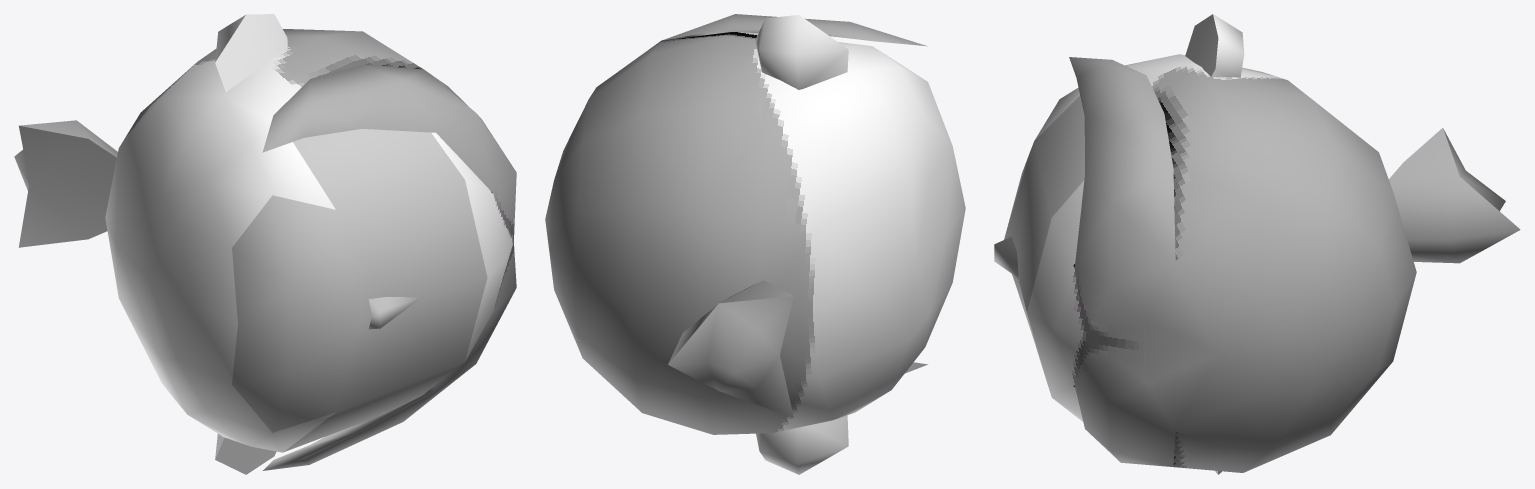
The model's file is girl08a.dae.
3 renders of one model, left to right at view 1: azimuth 30°, elevation 25°; view 2: azimuth 150°, elevation 25°; view 3: azimuth 270°, elevation 25°, orthographic.
Visible parts, largest first — view 1: vsn_mesh_1_, vsn_mesh_0_, vsn_mesh_2_; view 2: vsn_mesh_1_; view 3: vsn_mesh_1_, vsn_mesh_0_.
Part boxes in pixels (x1=…): vsn_mesh_1_: x1=14, y1=14, x2=516, y2=474; vsn_mesh_0_: x1=283, y1=129, x2=487, y2=452; vsn_mesh_2_: x1=232, y1=195, x2=360, y2=432; vsn_mesh_1_: x1=545, y1=14, x2=965, y2=474; vsn_mesh_1_: x1=1027, y1=14, x2=1520, y2=474; vsn_mesh_0_: x1=994, y1=95, x2=1084, y2=389.
Size of the model in its own units: 20.74 by 26.71 by 28.01.
